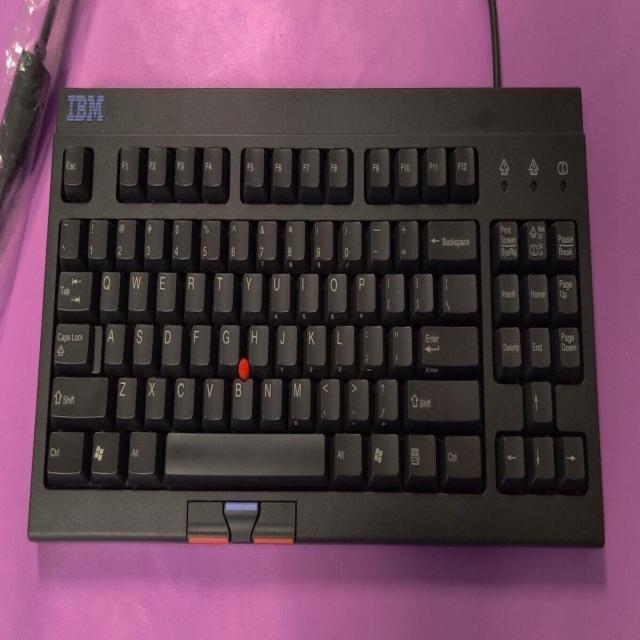keyboard: (29, 85, 605, 544)
